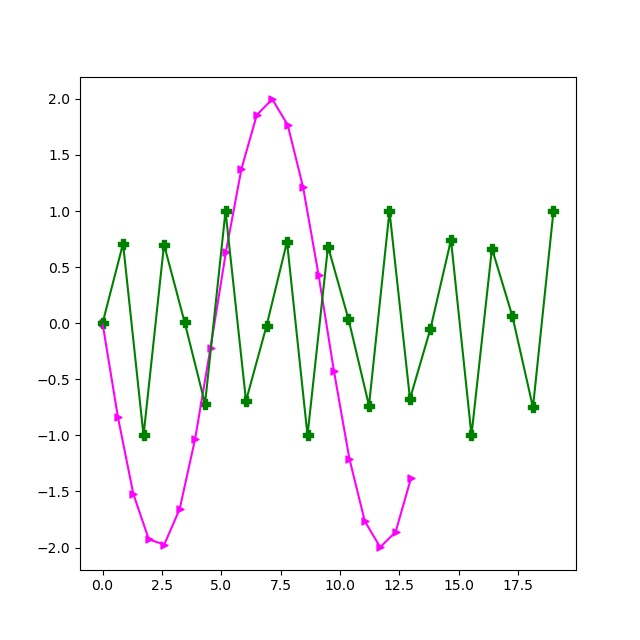plus: (97, 318, 109, 330), (118, 238, 130, 250), (138, 430, 150, 442), (159, 239, 171, 251), (179, 316, 191, 328), (200, 398, 212, 410), (220, 206, 232, 218), (241, 395, 253, 407), (261, 320, 273, 332), (282, 236, 294, 248), (302, 430, 314, 442), (322, 241, 334, 253), (343, 314, 355, 326), (363, 400, 375, 412), (384, 206, 396, 218), (404, 393, 416, 405), (425, 323, 437, 335), (445, 234, 457, 246), (466, 430, 478, 442), (486, 243, 498, 255), (507, 311, 519, 323), (527, 402, 539, 414), (548, 206, 560, 218)
triangle_right: (98, 319, 108, 329), (113, 413, 123, 423), (129, 490, 139, 500), (144, 535, 154, 545), (160, 540, 170, 550), (175, 504, 185, 514), (191, 435, 201, 445), (206, 343, 216, 353), (221, 247, 231, 257), (237, 165, 247, 175), (252, 110, 262, 120), (268, 95, 278, 105), (283, 120, 293, 130), (299, 183, 309, 193), (314, 270, 324, 280), (329, 366, 339, 376), (345, 454, 355, 464), (360, 517, 370, 527), (376, 543, 386, 553), (391, 527, 401, 537), (407, 473, 417, 483)
